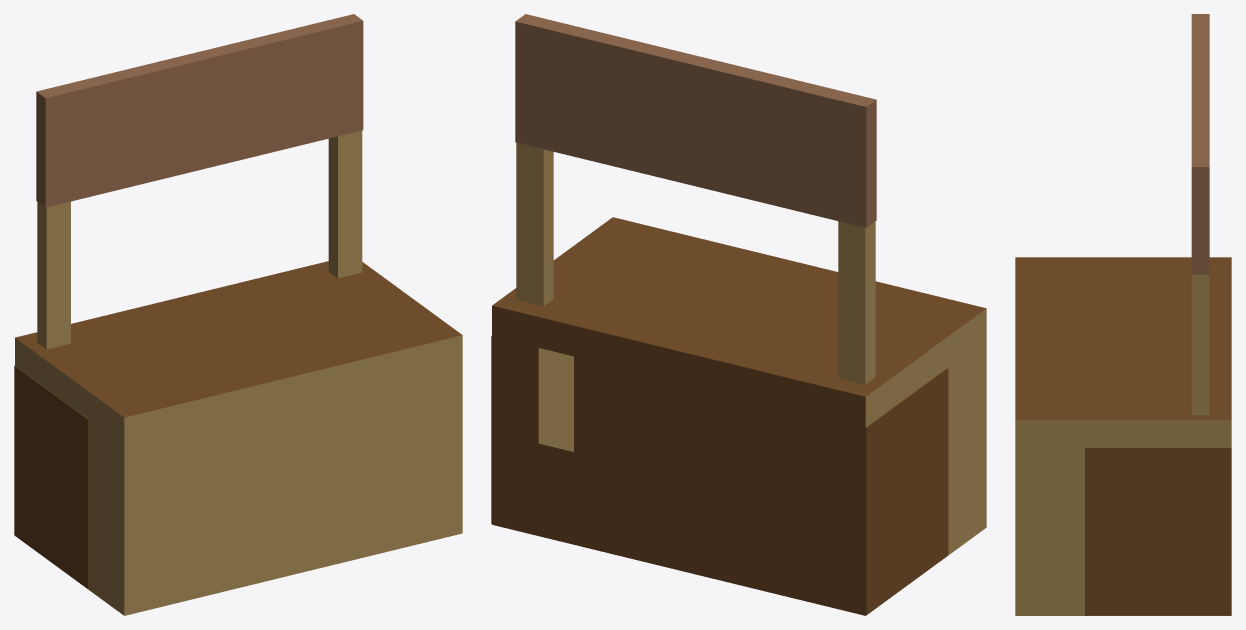
Rendered from Shack3.fbx.
The picture shows the model from 3 angles, left to right: view 1: azimuth 30°, elevation 25°; view 2: azimuth 150°, elevation 25°; view 3: azimuth 270°, elevation 25°; orthographic projection. The views are drawn at different scales.
Visible parts, largest first — view 1: Cube; view 2: Cube; view 3: Cube.
Boxes of the visible parts, x1,y1,x2,y2 form: Cube: [14, 14, 462, 615]; Cube: [491, 14, 986, 615]; Cube: [1015, 14, 1231, 615].
Bounding box in the file's own units: 1785 × 2260 × 996.
